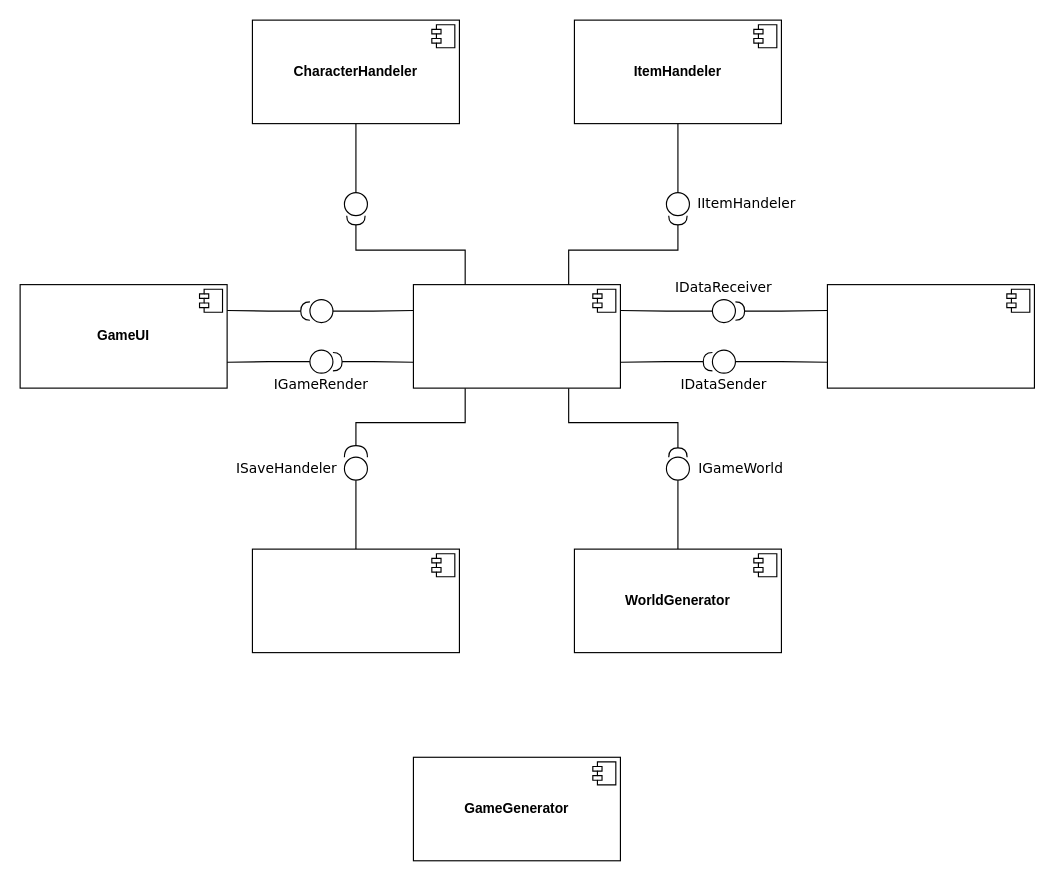
The diagram is 1055 pixels wide and 881 high, and some of its shapes have lost their labels. The centre of each missing label's shape, as x and y in pixels:
"ConnectionHandeler" belongs at point (930, 335).
"GameEngine" belongs at point (516, 335).
"ICharacterHandeler" belongs at point (355, 203).
"IUserAction" belongs at point (321, 310).
"SaveHandeler" belongs at point (355, 600).
